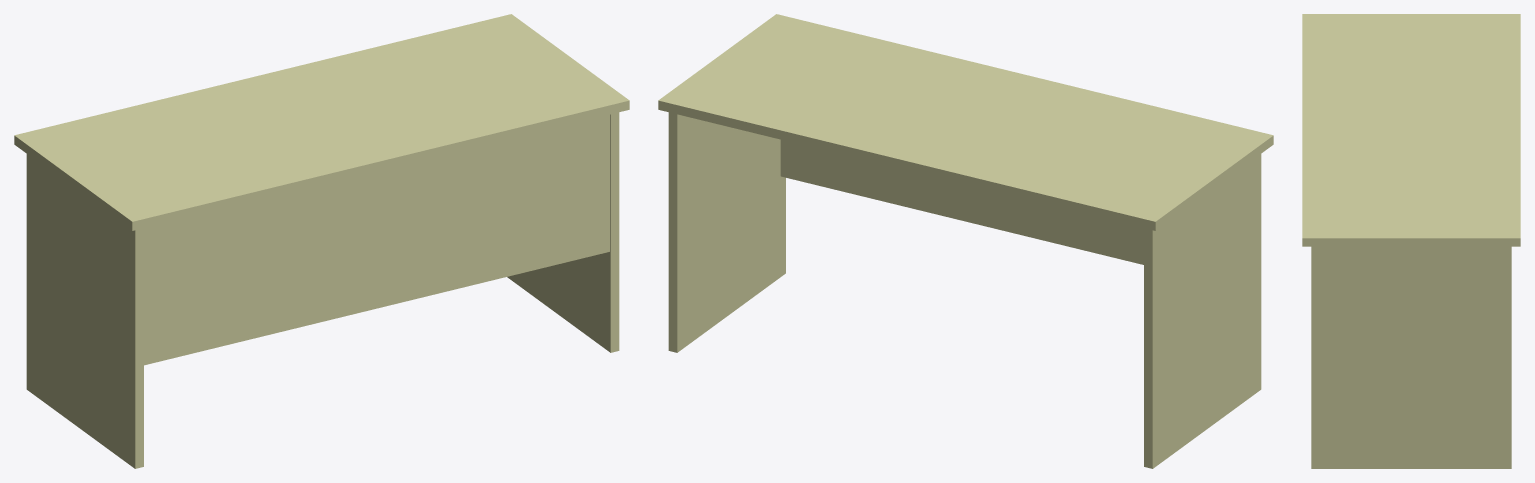
File: Office table.fbx
3 views of the same model, side by side, from view 1: azimuth 30°, elevation 25°; view 2: azimuth 150°, elevation 25°; view 3: azimuth 270°, elevation 25° (orthographic). The views are drawn at different scales.
Visible parts, largest first — view 1: office table; view 2: office table; view 3: office table.
Boxes of the visible parts, x1,y1,x2,y2 form: office table: (14, 14, 629, 468); office table: (658, 14, 1273, 468); office table: (1302, 14, 1520, 468).
Size of the model in its own units: 1.7 by 0.8248 by 0.7.
